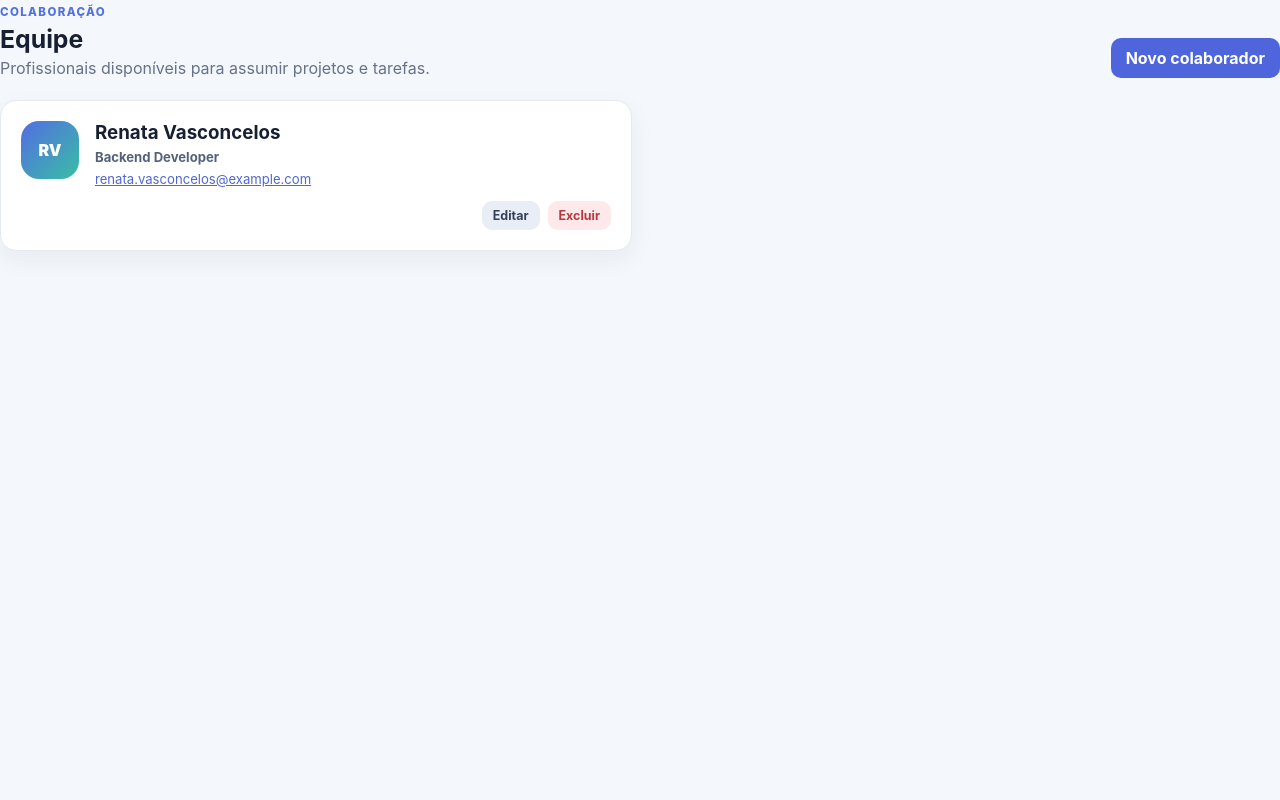
TeamPage actions › asks for confirmation before removing and reloads the list
Click the button "Excluir": (579, 216) x1=548 y1=201 x2=611 y2=230
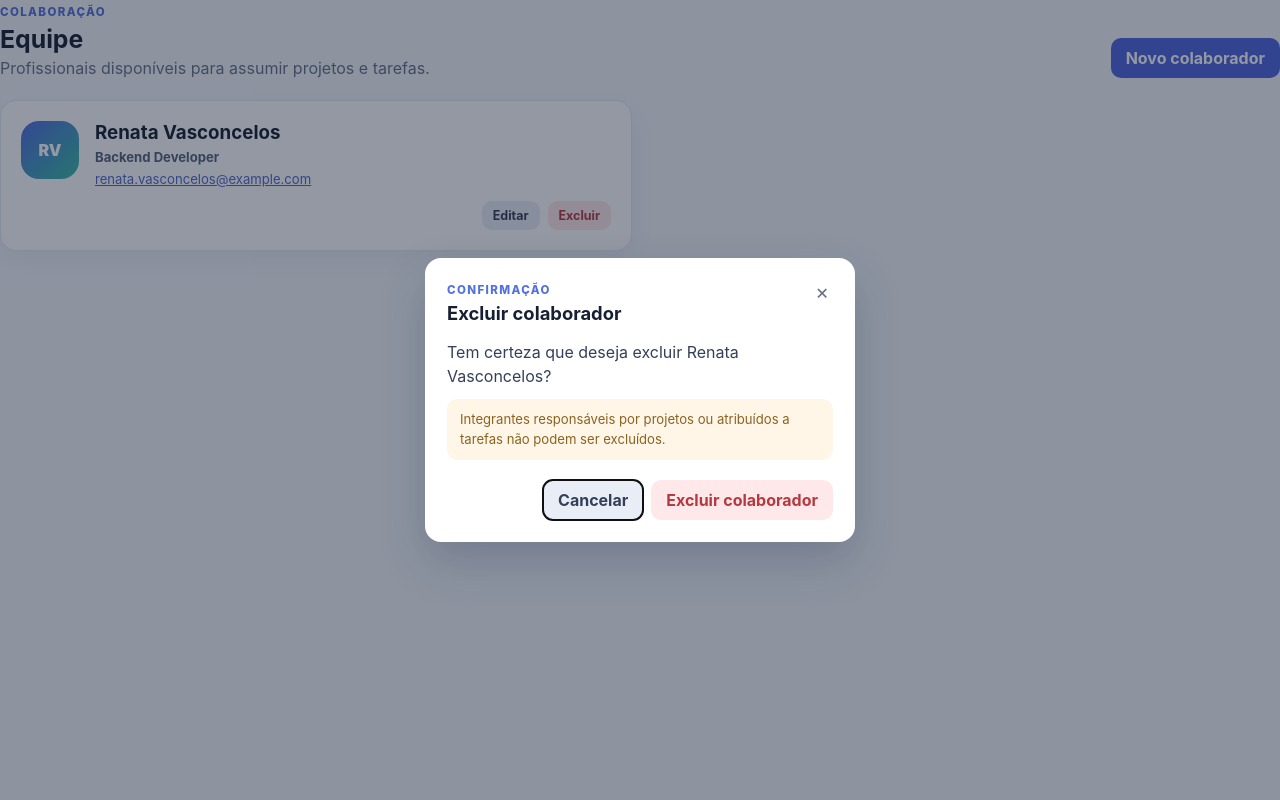
Result: the dialog "Excluir colaborador" is shown at x1=425 y1=258 x2=855 y2=542
Click the button "Excluir colaborador": (742, 500) x1=651 y1=480 x2=833 y2=520
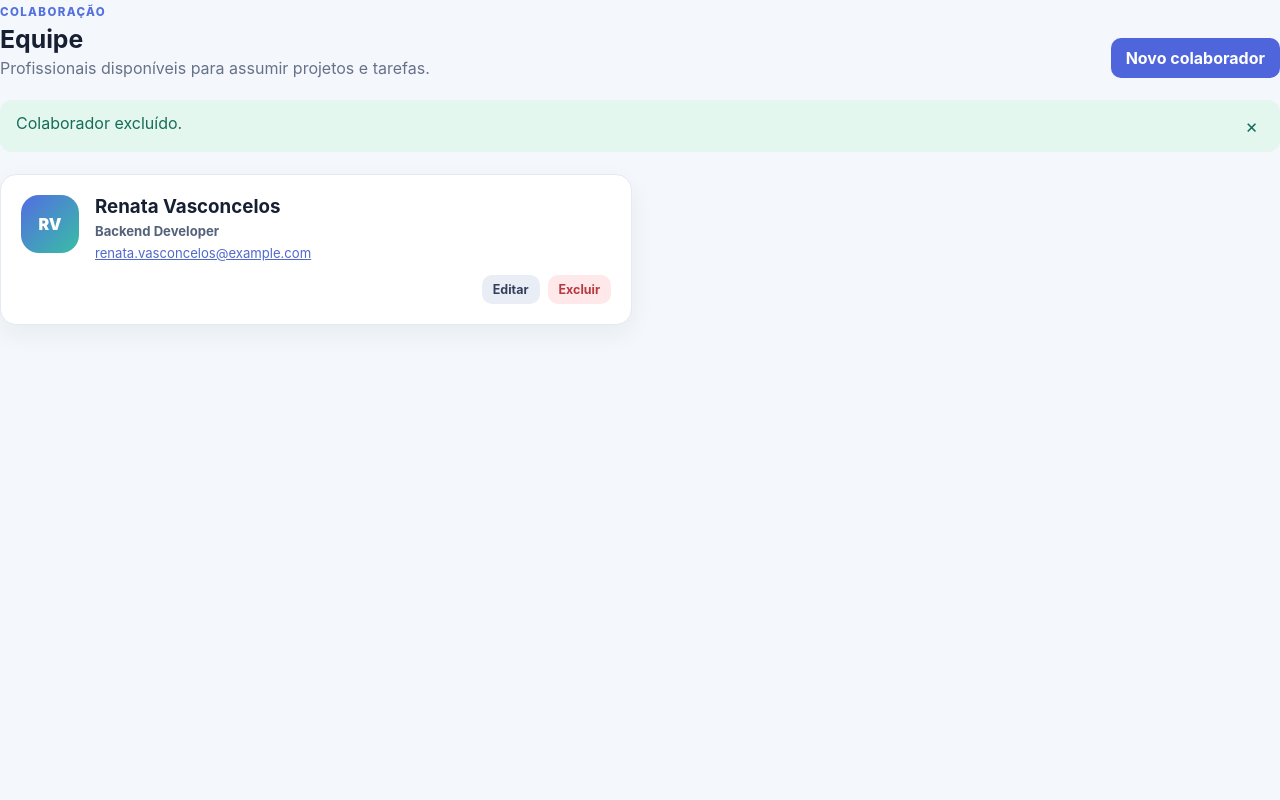
Result: the text "Colaborador excluído." is shown at x1=16 y1=113 x2=182 y2=139
